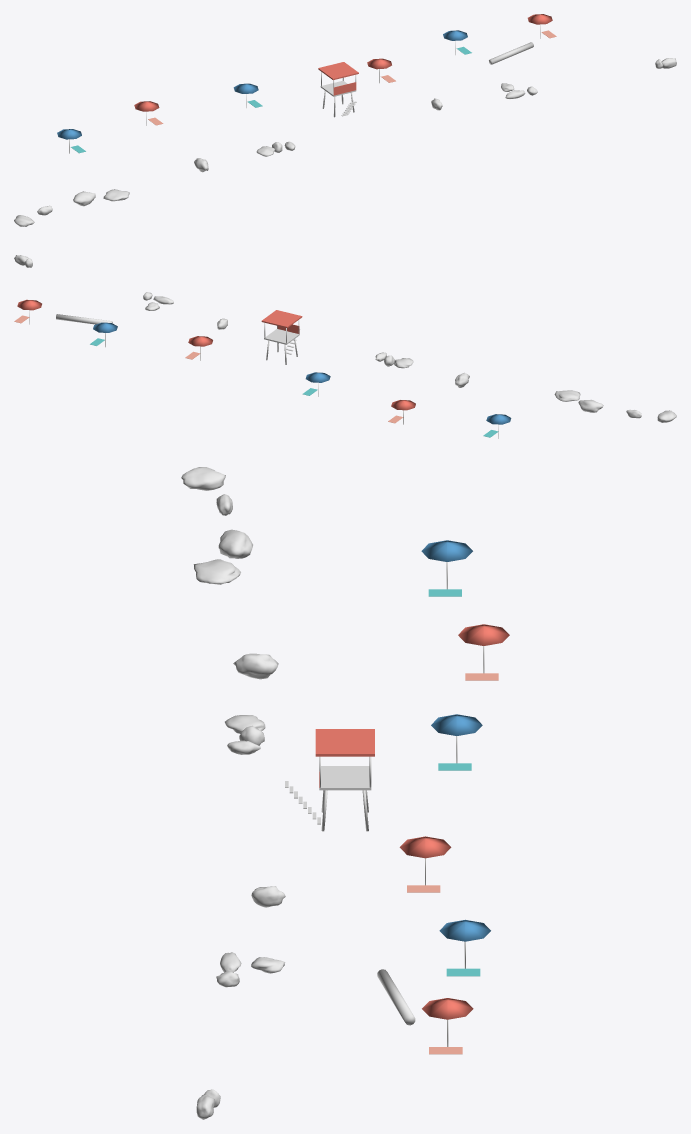
Rendered from BeachProps.fbx.
3 renders of one model, top to bottom at view 1: azimuth 30°, elevation 25°; view 2: azimuth 150°, elevation 25°; view 3: azimuth 270°, elevation 25°, orthographic. The views are drawn at different scales.
Parts seen in each view (by area): view 1: BeachProps_LOD0; view 2: BeachProps_LOD0; view 3: BeachProps_LOD0.
Boxes of the visible parts, box(x1,y1,x2,y2) form: BeachProps_LOD0: box(14, 14, 676, 226); BeachProps_LOD0: box(14, 255, 676, 438); BeachProps_LOD0: box(181, 467, 509, 1119).
Size of what is drawn, in the model's own units: 82.02 by 5.46 by 17.7.
